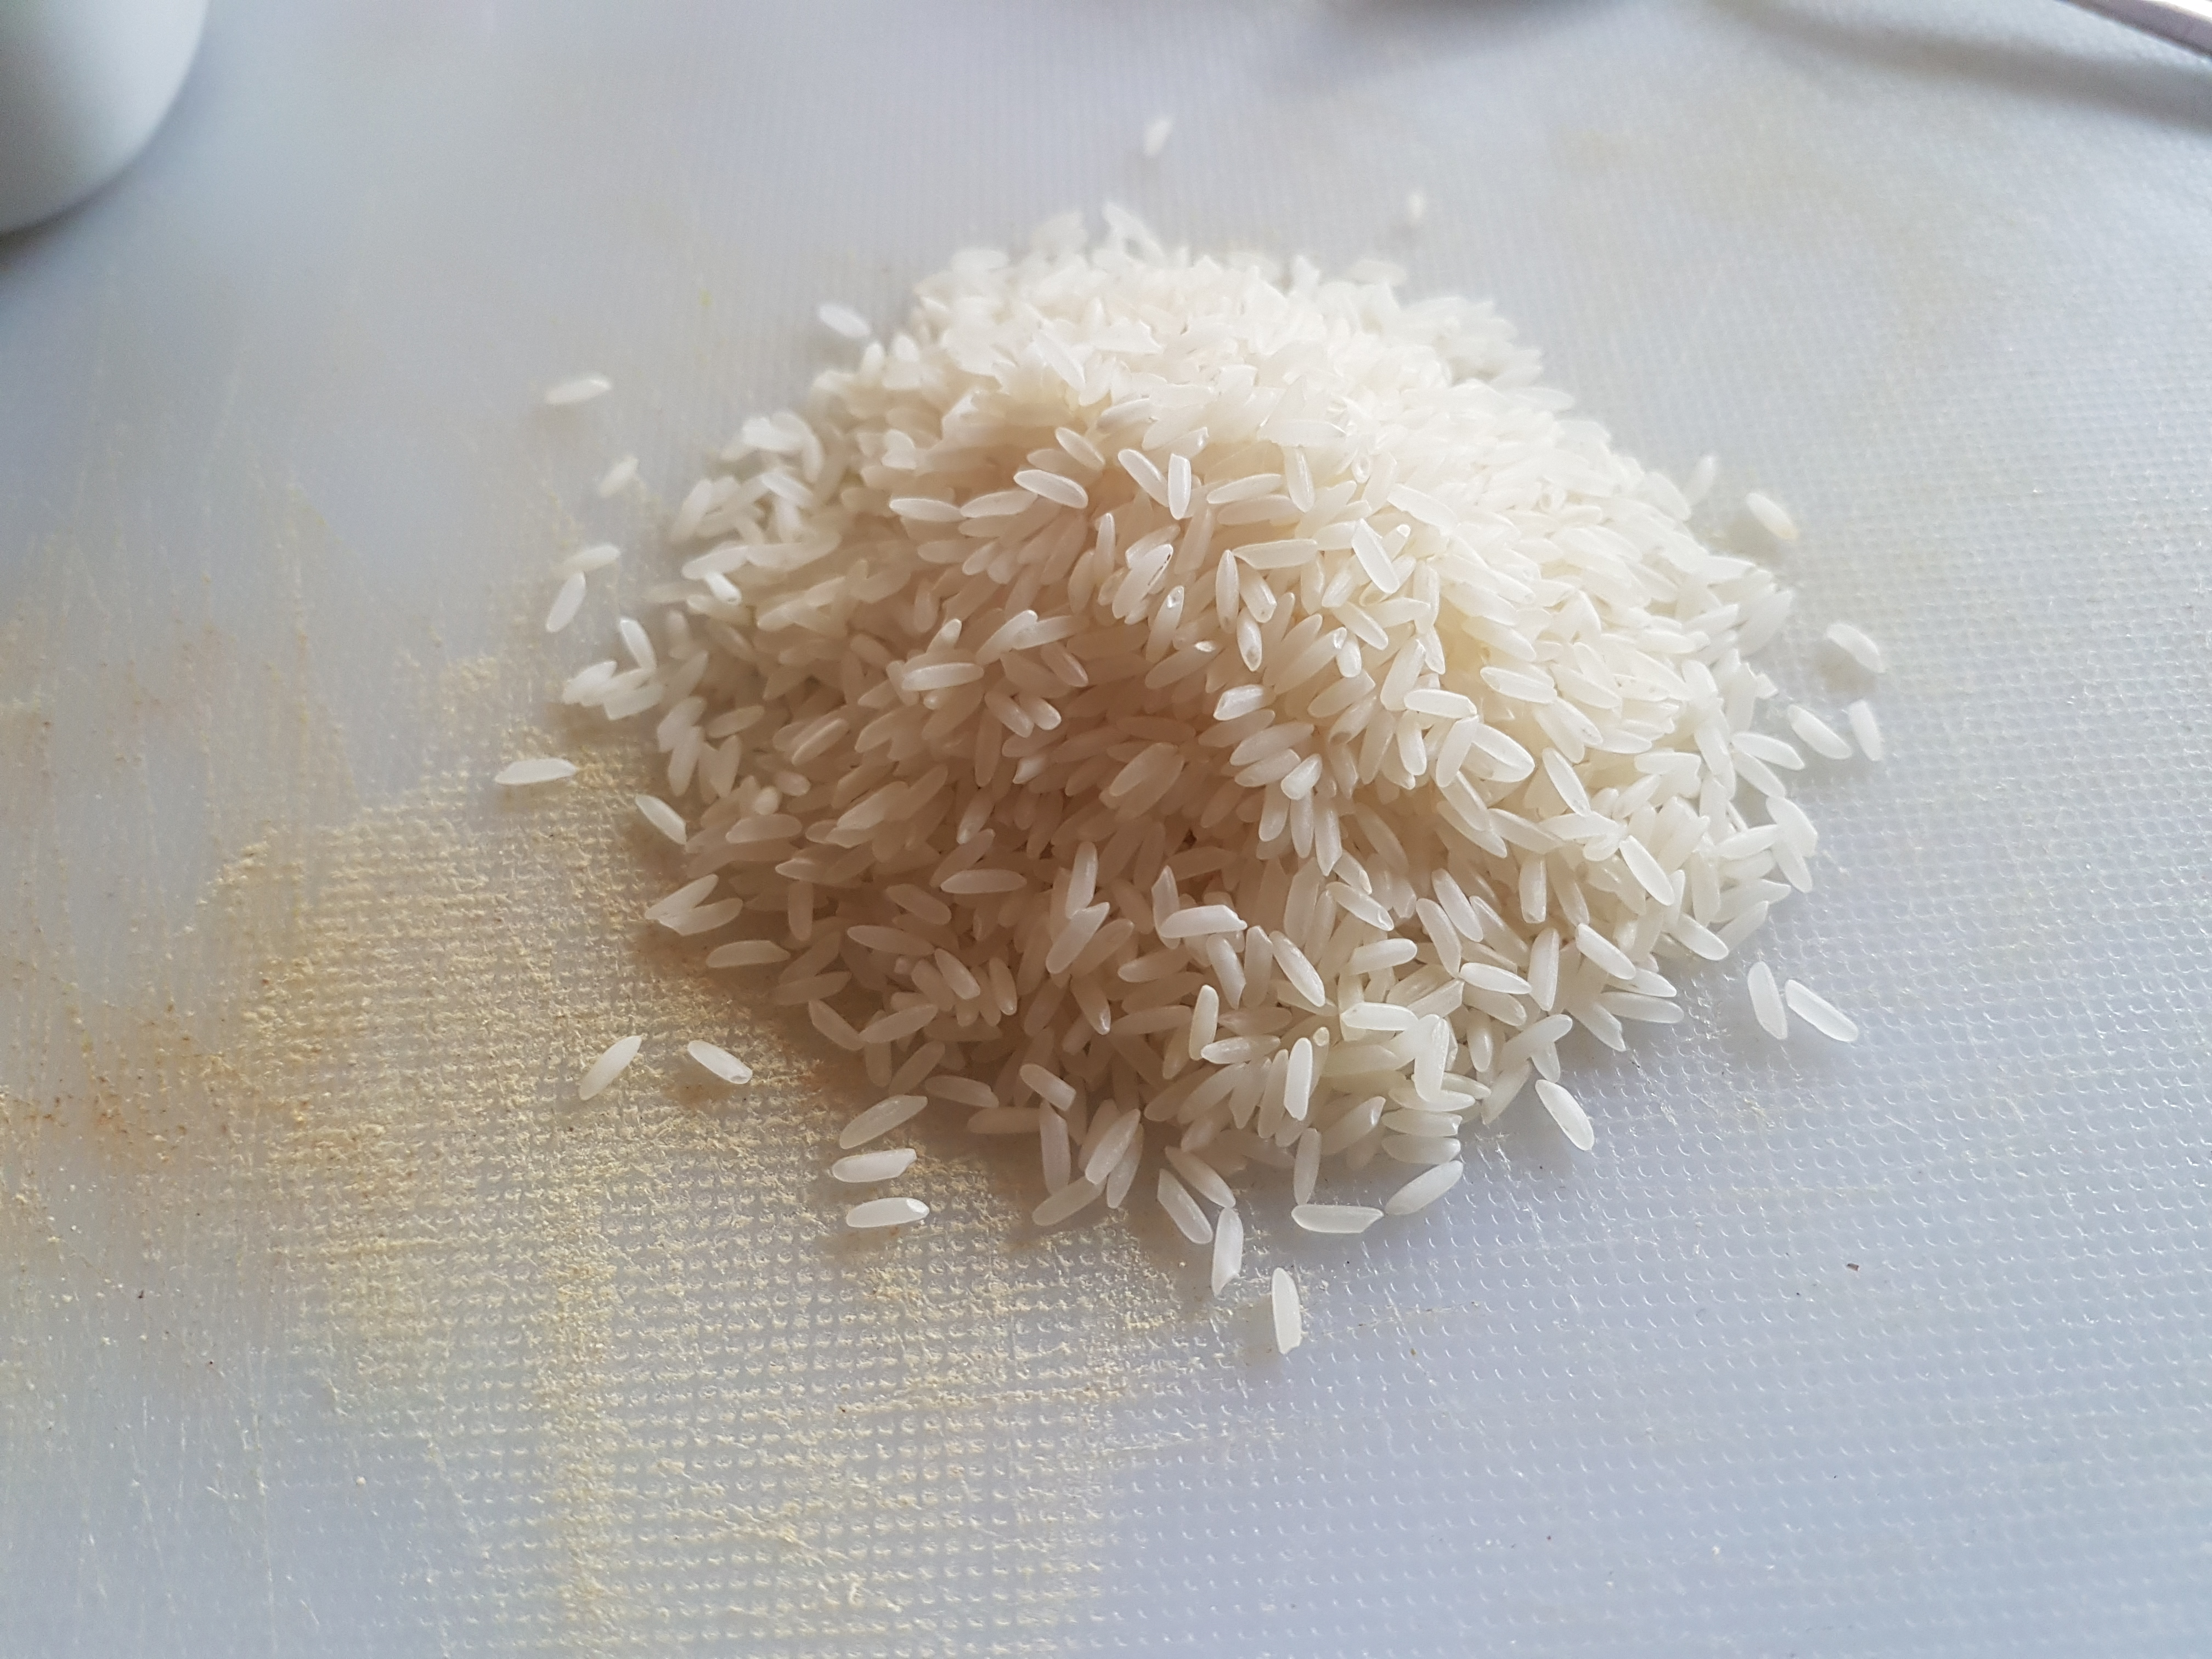Basmati rice: (482, 101, 2060, 1375)
